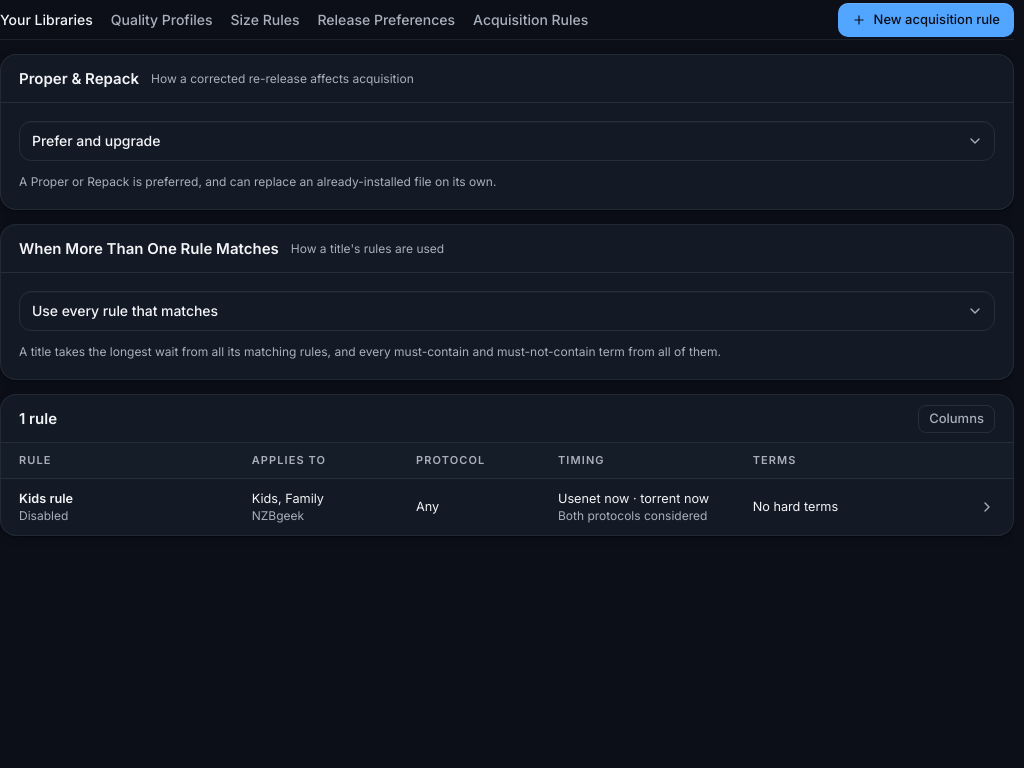
Test: release profile enable/disable and indexer scoping (#770) › loads an existing scoped, disabled rule with its switch off and its indexer checked
This screenshot has width=1024, height=768.
Click the text "Kids rule".
click(46, 498)  # box [19, 491, 73, 506]
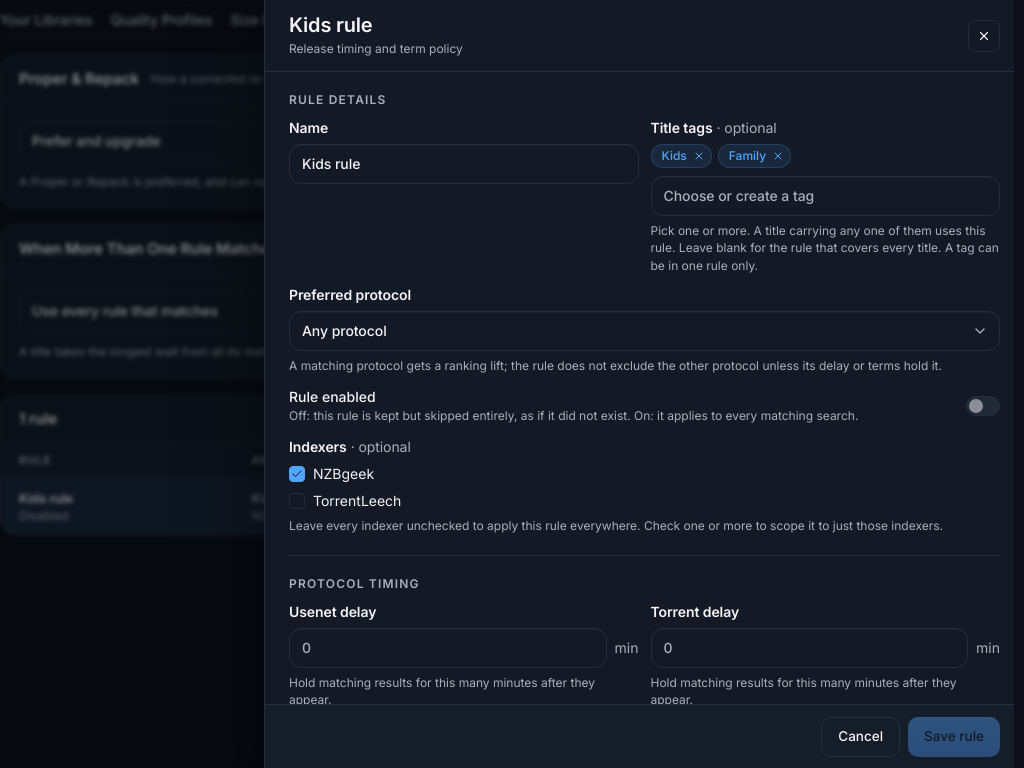
Now the dialog is shown
Now the checkbox labelled "NZBgeek" is checked, box [289, 466, 305, 482]
